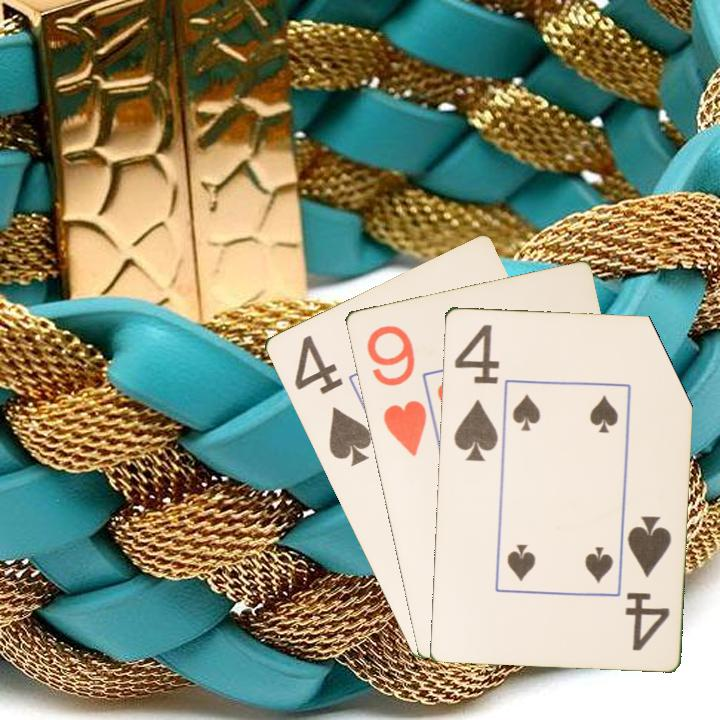4s: (290, 331, 374, 469), (450, 320, 503, 464), (621, 512, 674, 653)
9h: (362, 321, 429, 459)
